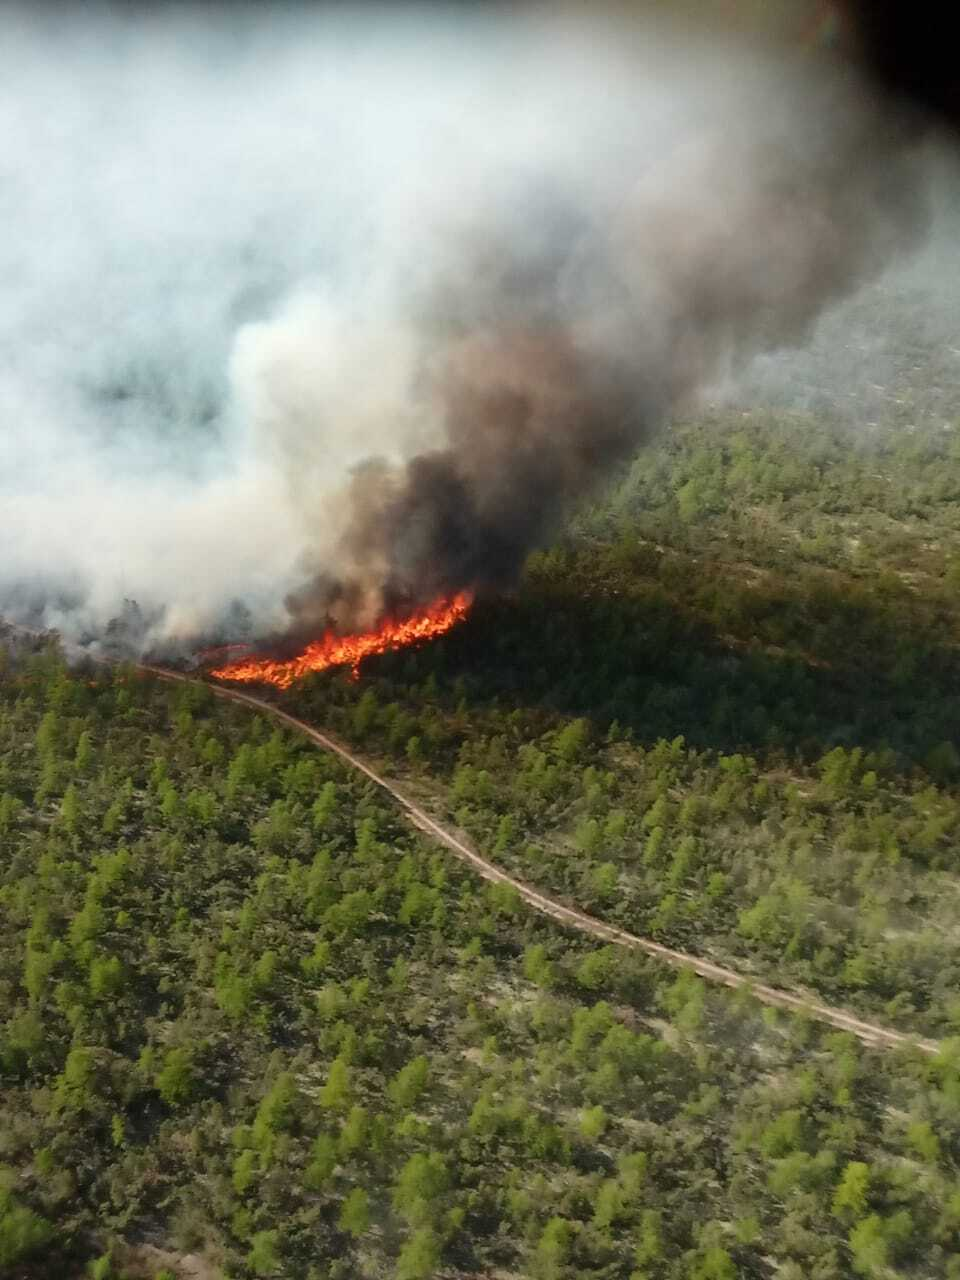fire: (210, 583, 477, 692)
